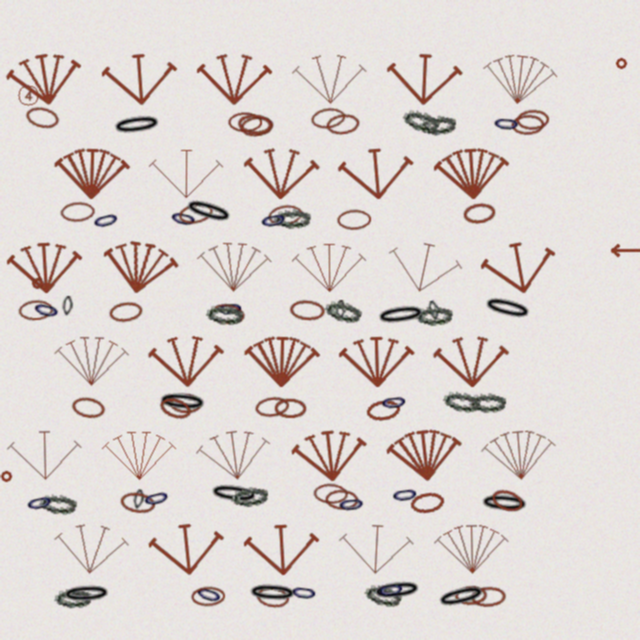chain: (182, 195, 235, 228), (481, 293, 534, 324), (435, 581, 488, 612), (111, 112, 163, 138), (375, 302, 427, 328), (208, 481, 260, 507), (371, 578, 423, 603), (157, 390, 208, 414), (479, 492, 530, 515), (61, 583, 112, 605), (247, 582, 298, 604), (401, 107, 441, 135), (323, 298, 363, 325), (363, 582, 403, 609), (157, 394, 194, 423), (489, 486, 526, 515), (177, 200, 215, 227), (24, 104, 61, 131), (442, 389, 481, 414), (230, 484, 269, 509), (418, 113, 457, 137), (70, 395, 107, 420), (119, 490, 156, 515), (409, 490, 445, 515), (267, 203, 304, 227), (209, 302, 246, 326), (415, 304, 453, 327), (239, 114, 275, 138), (325, 112, 361, 136), (310, 106, 346, 130), (108, 300, 144, 324), (254, 395, 290, 419), (365, 398, 401, 422), (193, 581, 225, 608), (462, 201, 497, 225), (255, 585, 290, 609), (39, 493, 77, 515), (54, 587, 92, 609), (90, 207, 122, 233), (31, 297, 62, 323), (141, 485, 172, 511), (273, 208, 311, 229), (18, 299, 54, 321), (289, 299, 325, 321), (206, 304, 243, 325), (469, 392, 506, 413), (168, 206, 199, 231), (24, 490, 55, 515), (237, 113, 272, 135), (60, 201, 95, 223), (168, 392, 203, 414), (470, 586, 506, 607), (258, 208, 289, 232), (313, 483, 348, 504), (337, 209, 371, 230), (325, 489, 359, 510), (191, 586, 225, 607), (454, 585, 488, 606), (511, 114, 544, 135), (516, 109, 549, 130), (390, 483, 420, 506), (289, 581, 319, 604), (376, 578, 406, 601), (228, 112, 262, 132), (274, 398, 307, 418), (379, 391, 409, 413), (337, 493, 366, 515), (492, 113, 521, 134), (216, 298, 244, 319), (427, 300, 441, 321), (132, 489, 145, 510), (62, 296, 73, 316), (335, 300, 346, 320)
fan: (382, 232, 467, 302), (478, 233, 561, 301), (4, 45, 86, 112), (99, 234, 181, 300), (194, 422, 275, 487), (480, 47, 560, 111), (290, 423, 370, 487), (385, 423, 465, 486), (147, 517, 227, 580), (337, 142, 416, 204), (480, 424, 559, 485), (52, 518, 131, 579), (101, 48, 179, 109), (433, 143, 511, 203), (6, 237, 84, 297), (243, 519, 321, 579), (386, 49, 463, 108), (196, 237, 273, 296), (148, 331, 225, 390), (338, 519, 415, 578), (243, 144, 320, 202), (433, 332, 510, 390), (54, 144, 130, 202), (244, 332, 320, 390), (339, 332, 415, 390), (292, 50, 368, 107), (54, 332, 130, 389), (7, 426, 83, 483), (434, 520, 510, 577), (197, 50, 272, 107), (149, 145, 224, 201), (292, 239, 367, 295), (102, 427, 177, 483)
noise: (16, 83, 41, 108), (608, 243, 640, 258), (614, 56, 628, 70), (31, 277, 44, 290), (0, 470, 13, 483)
